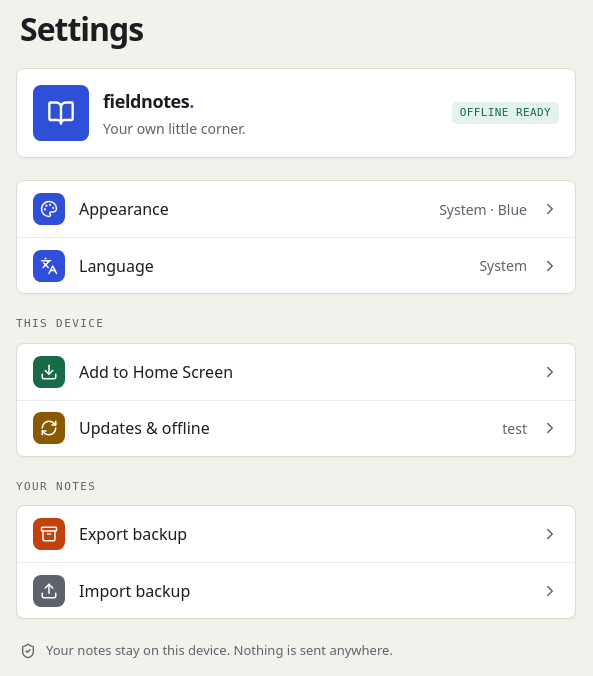
Test: given the Settings hub › when opening a row › should show the Import backup page
This screenshot has width=593, height=676.
Click the link "Import backup" at (49, 591), box [17,562,575,618]
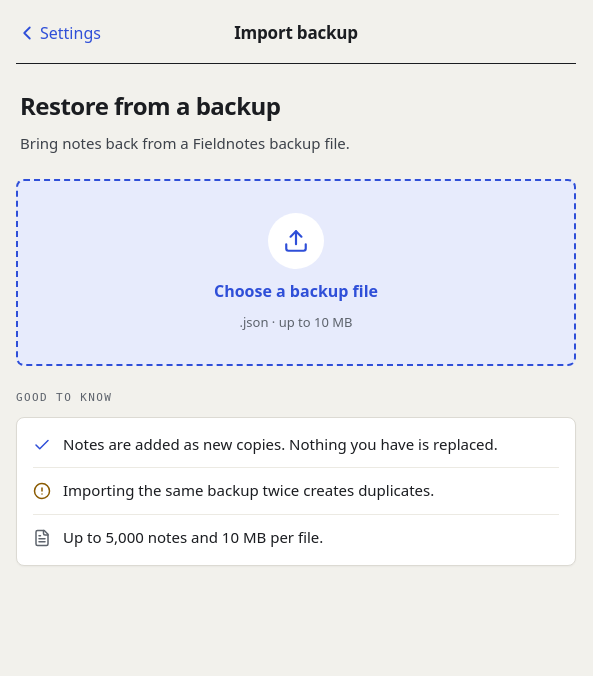
Now the heading "Restore from a backup" is shown, box [20,89,280,122]
